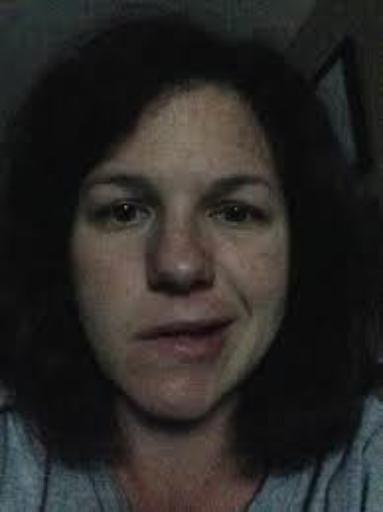left_eye: (206, 202, 269, 231)
left_lip_corner: (223, 310, 245, 335)
right_eye: (96, 200, 153, 233)
right_lip_corner: (132, 327, 154, 351)
